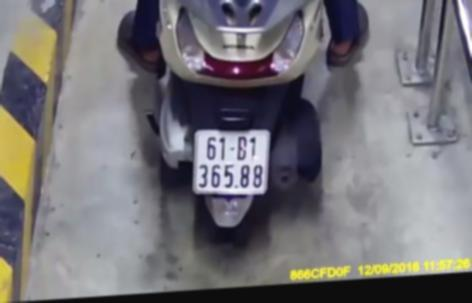License_Plate: (185, 120, 271, 206)
